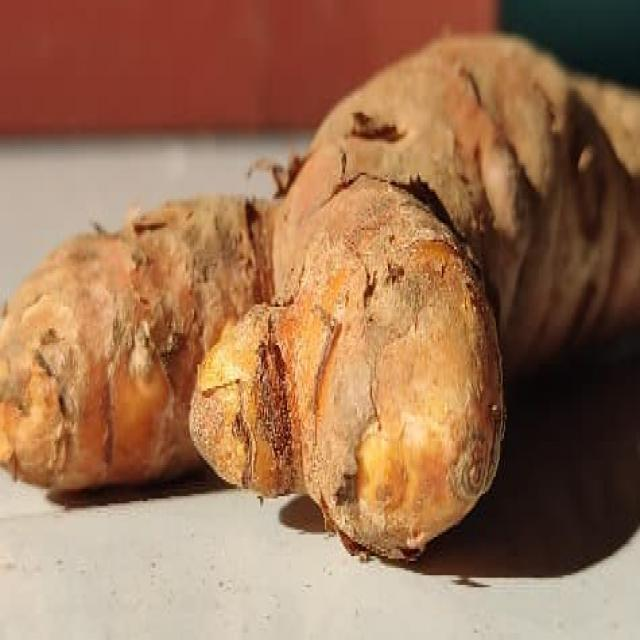ginger: (14, 33, 636, 529)
